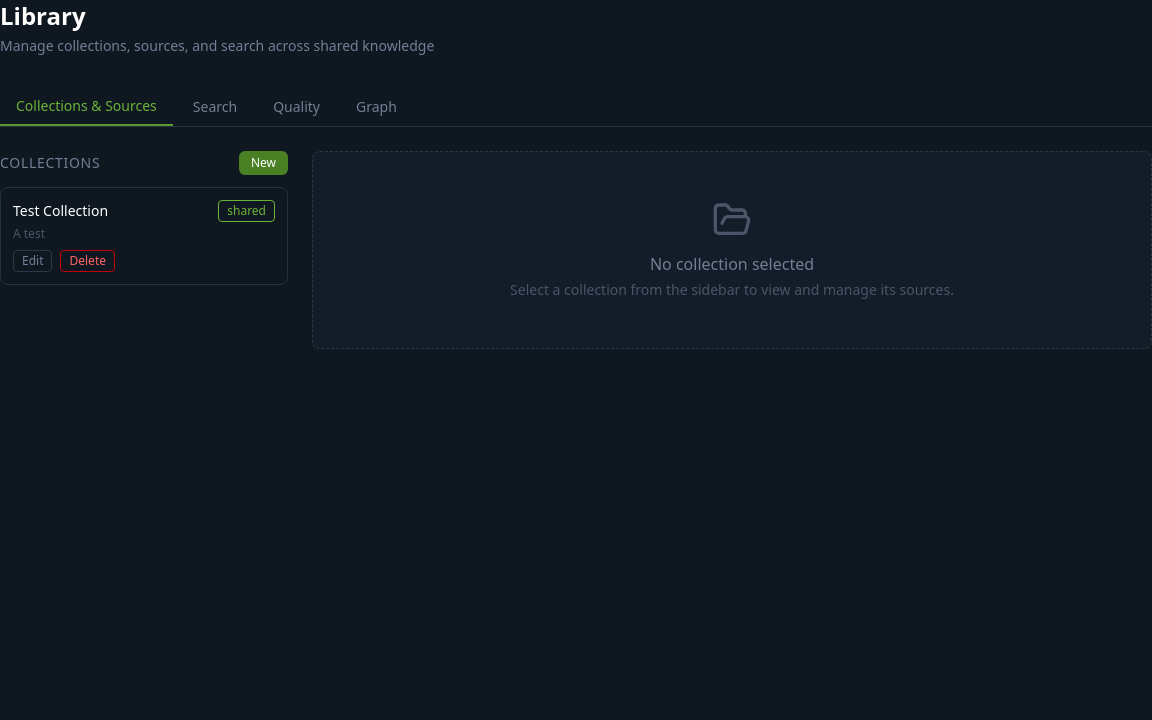
Scenario: SharedKnowledgeClient usage rankings › renders top collections table on Quality tab
The width and height of the screenshot is (1152, 720).
Expected: the heading "Library" is shown, [0,0,86,32]
What coordinates should you click on to do the following:
click the button "Quality"
I would click on:
 (297, 107)
Its box is [257,88,336,126].
(page scrolled)
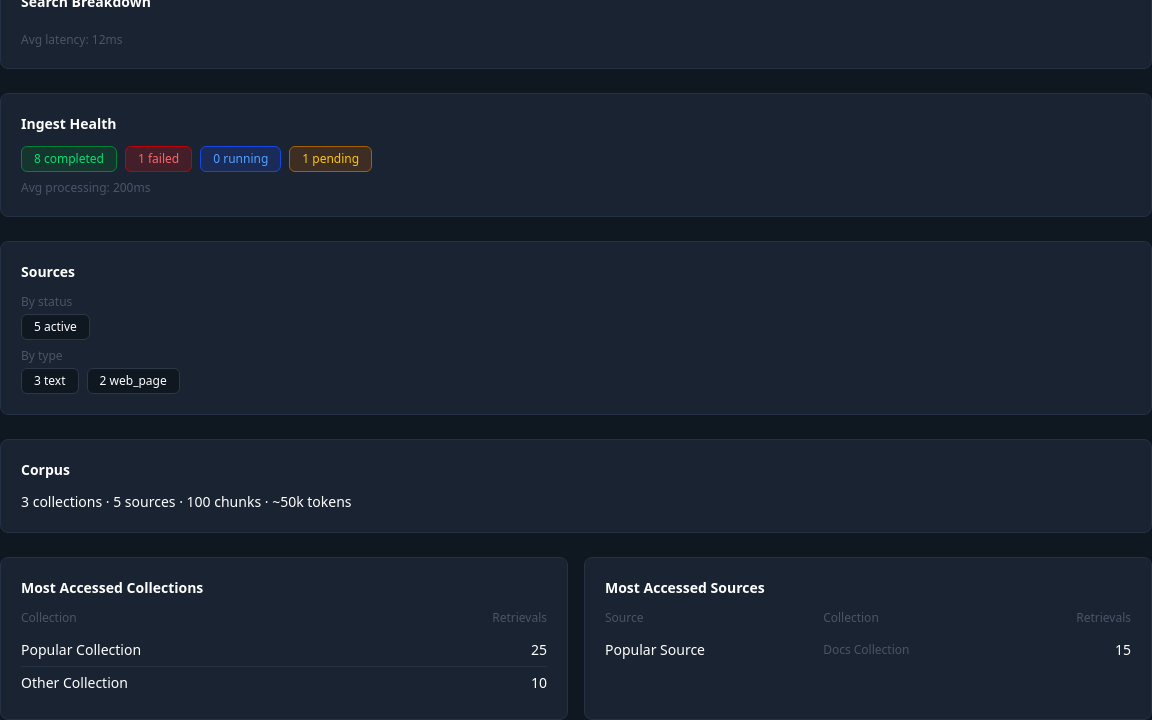
Expected: the element with test id "top-collections" is shown, [0,557,568,719]
Expected: the heading "Most Accessed Collections" is shown, [21,578,203,597]
Expected: the text "Popular Collection" is shown, [21,634,382,666]
